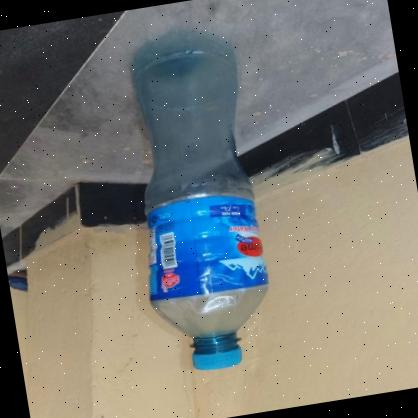bottle: (103, 23, 292, 382)
cap: (178, 335, 253, 378)
label: (141, 178, 271, 308)
